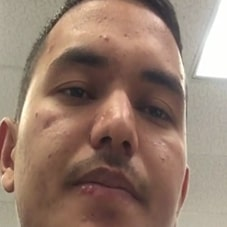drowsy: (45, 36, 188, 227)
